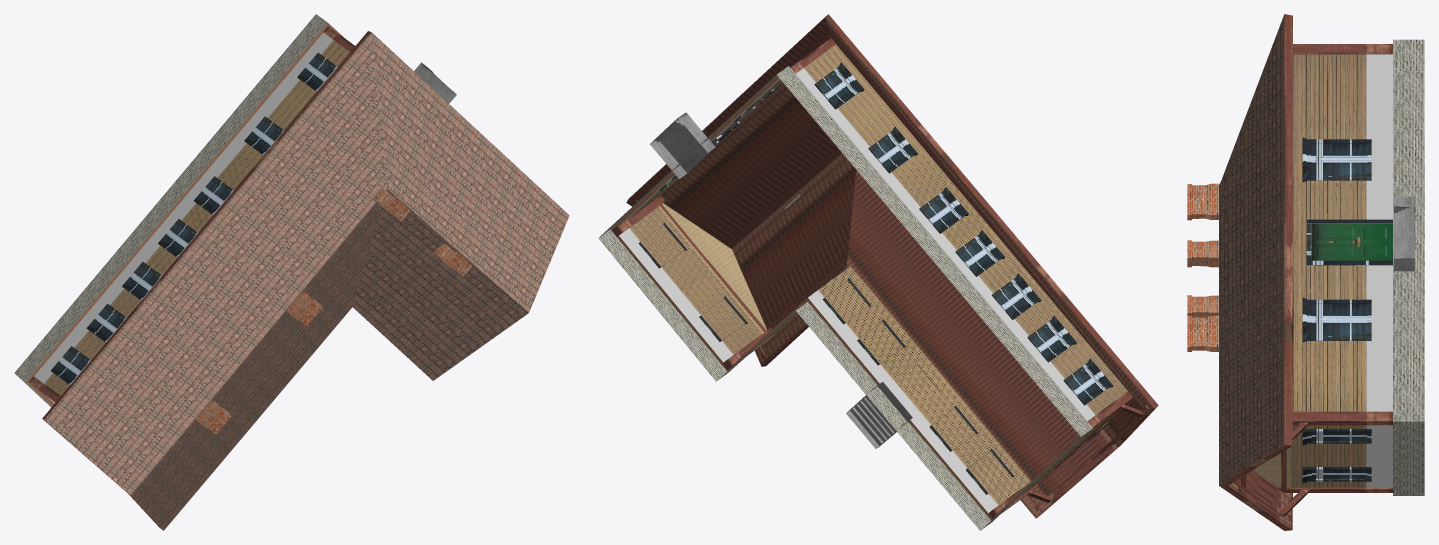
The model's file is Suurtyki_6_1.obj.
The picture shows the model from 3 angles, left to right: view 1: azimuth 30°, elevation 25°; view 2: azimuth 150°, elevation 25°; view 3: azimuth 270°, elevation 25°; orthographic projection. The views are drawn at different scales.
Parts seen in each view (by area): view 1: Suurtyki_6; view 2: Suurtyki_6; view 3: Suurtyki_6.
Boxes of the visible parts, x1,y1,x2,y2 form: Suurtyki_6: [14, 14, 569, 530]; Suurtyki_6: [598, 14, 1158, 530]; Suurtyki_6: [1187, 14, 1424, 530].
Size of the model in its own units: 26.76 by 21.8 by 7.98.
